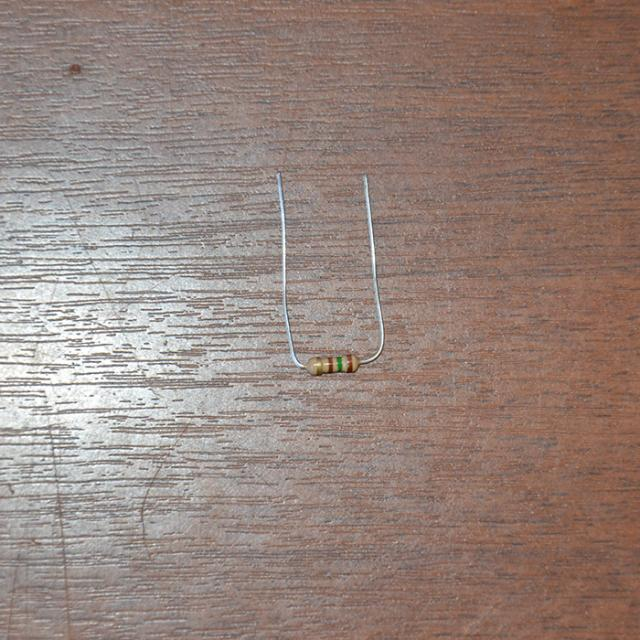brown: (347, 356, 353, 371), (328, 357, 334, 371)
gold: (316, 358, 322, 373)
green: (336, 356, 341, 370)
resistor: (304, 349, 366, 383)
